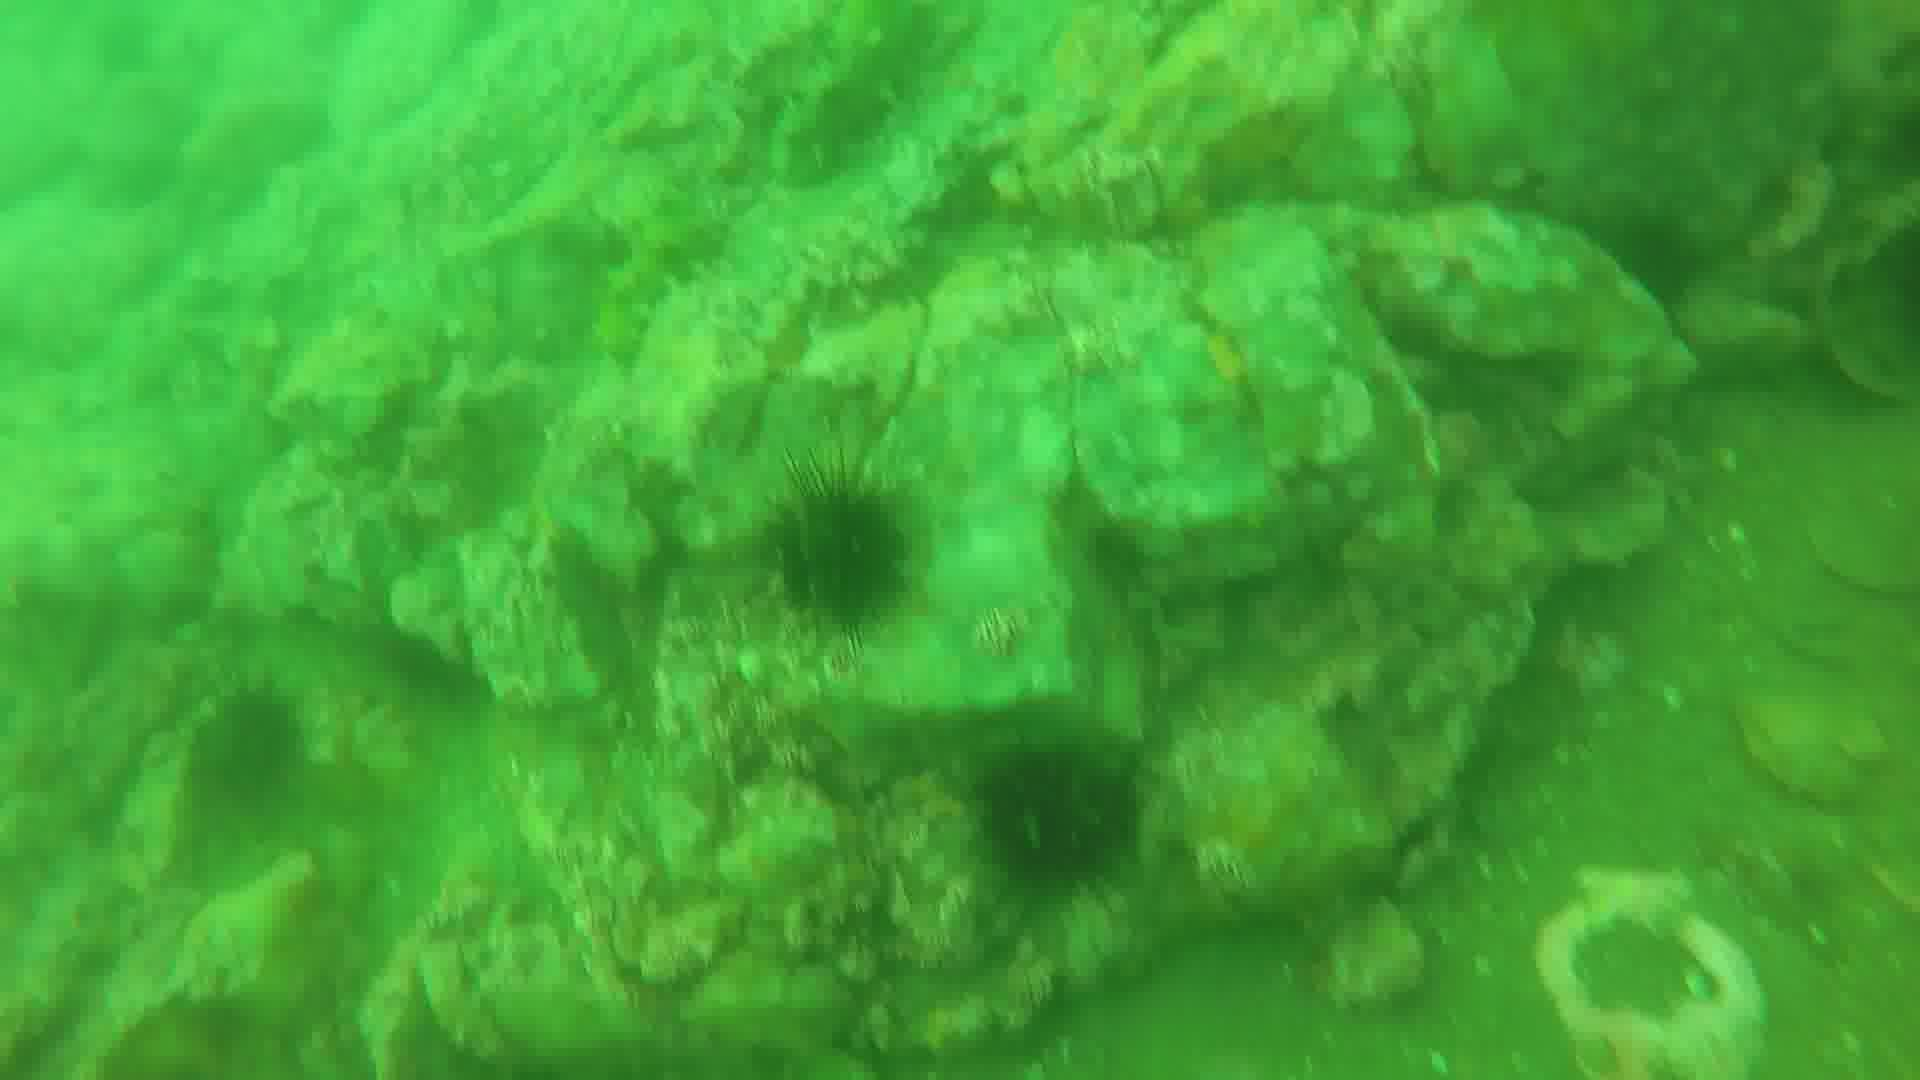echinus: (978, 736, 1146, 894), (767, 471, 913, 618)
